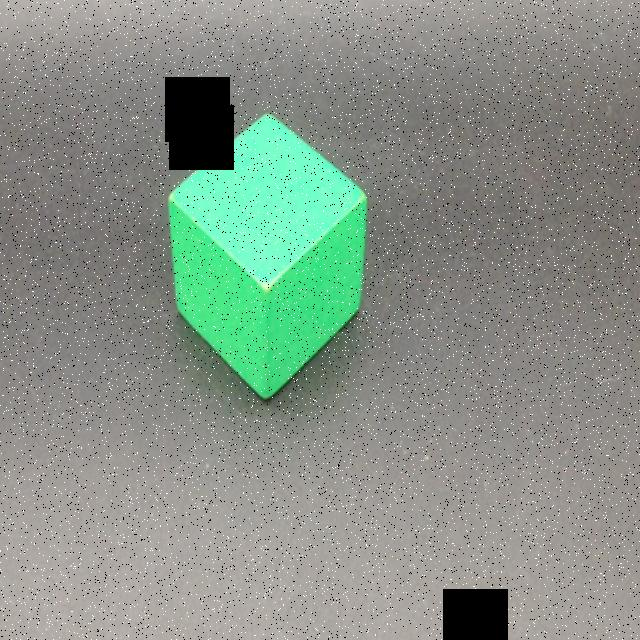green cube: (167, 115, 369, 403)
